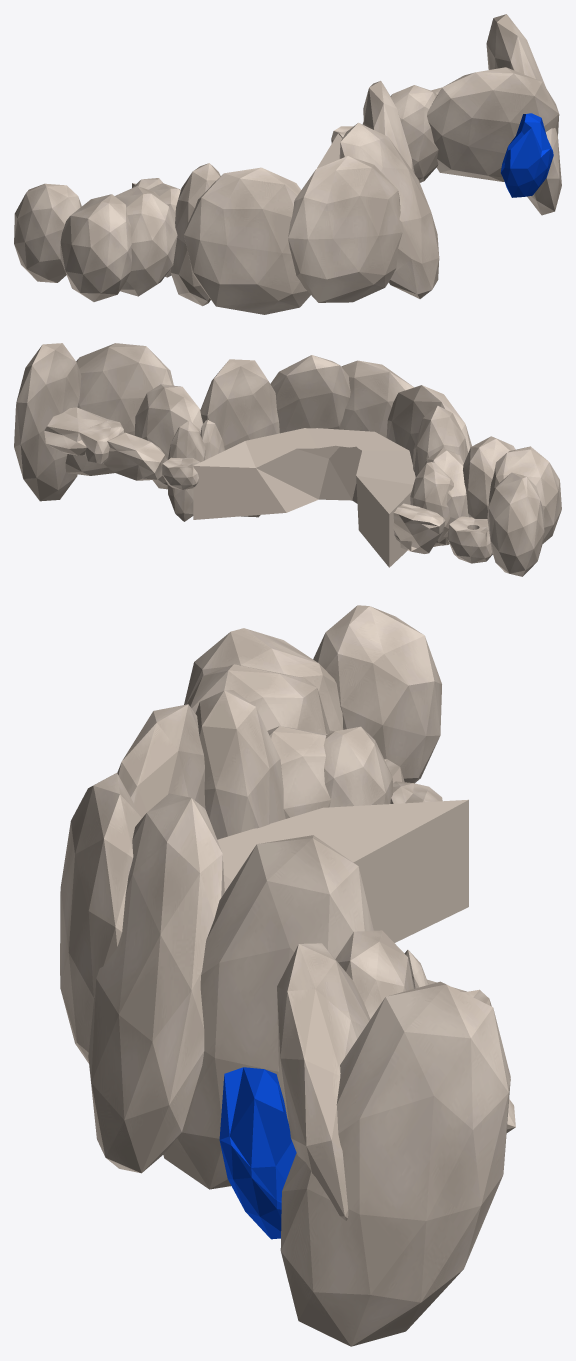
Rendered from LevelStructure0.fbx.
3 renders of one model, top to bottom at view 1: azimuth 30°, elevation 25°; view 2: azimuth 150°, elevation 25°; view 3: azimuth 270°, elevation 25°, orthographic. The views are drawn at different scales.
Parts seen in each view (by area): view 1: Icosphere_006__6_, Icosphere_006__5_, Icosphere_006__1_, Icosphere_006__4_, Icosphere_006__13_, Icosphere_006__14_, Icosphere_006__12_, Icosphere_006__2_, Icosphere_005, Icosphere_006__9_, Icosphere_006, Icosphere_006__3_ (+2 smaller); view 2: lvl1archrock, Icosphere_006__2_, Icosphere_006__1_, Icosphere_006__3_, Icosphere_006__4_, Icosphere_006__14_, Icosphere_006__5_, Icosphere_006, lvl1rock1, Icosphere_006__13_, Icosphere_006__6_, Icosphere_006__12_ (+9 smaller); view 3: Icosphere_006__2_, Icosphere_006__4_, Icosphere_006__3_, lvl1archrock, Icosphere_006__1_, Icosphere_006__14_, Icosphere_006__5_, Icosphere_006__9_, Icosphere_005, Icosphere_006__6_, Icosphere_006__12_, Icosphere_006__13_ (+4 smaller).
Boxes of the visible parts, box(x1,y1,x2,y2) form: Icosphere_006__6_: box(184, 167, 310, 314); Icosphere_006__5_: box(288, 156, 402, 302); Icosphere_006__1_: box(427, 67, 559, 181); Icosphere_006__4_: box(339, 122, 439, 298); Icosphere_006__13_: box(60, 194, 131, 301); Icosphere_006__14_: box(14, 183, 81, 282); Icosphere_006__12_: box(115, 186, 177, 296); Icosphere_006__2_: box(486, 14, 561, 215); Icosphere_005: box(500, 113, 553, 197); Icosphere_006__9_: box(170, 163, 220, 306); Icosphere_006: box(390, 85, 438, 182); Icosphere_006__3_: box(363, 81, 414, 173); lvl1archrock: box(193, 428, 415, 567); Icosphere_006__2_: box(14, 343, 81, 501); Icosphere_006__1_: box(65, 343, 173, 475); Icosphere_006__3_: box(200, 359, 279, 517); Icosphere_006__4_: box(270, 355, 350, 433); Icosphere_006__14_: box(487, 472, 544, 576); Icosphere_006__5_: box(339, 360, 413, 437); Icosphere_006: box(134, 384, 203, 489); lvl1rock1: box(44, 407, 123, 464); Icosphere_006__13_: box(489, 446, 561, 543); Icosphere_006__6_: box(386, 385, 471, 464); Icosphere_006__12_: box(463, 436, 515, 518); Icosphere_006__2_: box(280, 981, 510, 1346); Icosphere_006__4_: box(88, 793, 224, 1173); Icosphere_006__3_: box(163, 835, 373, 1189); lvl1archrock: box(217, 799, 468, 991); Icosphere_006__1_: box(277, 943, 370, 1220); Icosphere_006__14_: box(313, 605, 441, 783); Icosphere_006__5_: box(60, 773, 141, 1063); Icosphere_006__9_: box(195, 690, 285, 839); Icosphere_005: box(219, 1067, 296, 1239); Icosphere_006__6_: box(117, 704, 205, 817); Icosphere_006__12_: box(187, 664, 330, 733); Icosphere_006__13_: box(184, 628, 343, 733).
Size of the model in its own units: 29188 by 9772 by 11356.
Materials: 3 (2 with a texture image).
